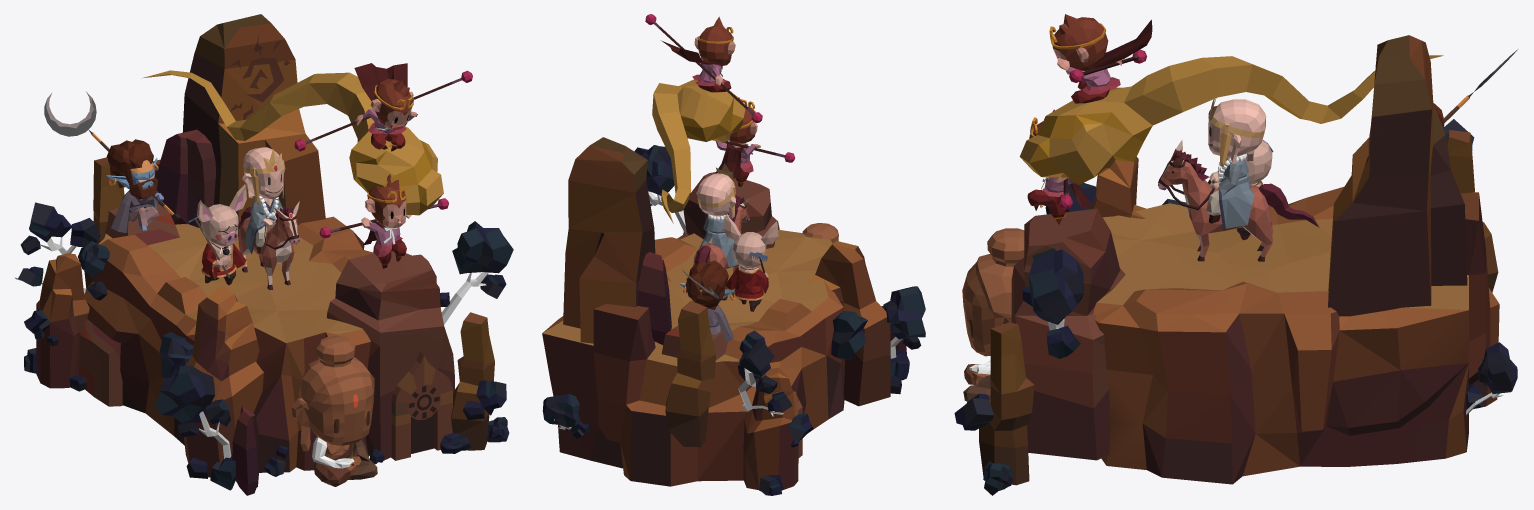
File: 0083_JourneyToTheWest.fbx
3 renders of one model, left to right at view 1: azimuth 30°, elevation 25°; view 2: azimuth 150°, elevation 25°; view 3: azimuth 270°, elevation 25°, orthographic. The views are drawn at different scales.
Parts seen in each view (by area): view 1: Plate, Rock02, Rock03 (×2), Rock05, FlyingNimbus, buddha_Head, Leaves01 (×4), Rock01 (×2), Rock04 (×2), Entrance, Rock06 (×2), Leaves02 (×4) (+15 smaller); view 2: Plate, Rock02, Rock03 (×2), FlyingNimbus, Leaves01 (×4), Rock04, Rock05, Leaves02 (×4), Rock01, SunWukong_Head (×2), SunWukong_Body (×2), Sandy_Head (+8 smaller); view 3: Plate, Rock02, Rock05, FlyingNimbus, Rock04 (×2), Leaves01 (×3), buddha_Head, Horse_body, Tripitaka_Head, Rock03, SunWukong_Head, Horse_Head (+5 smaller).
Part boxes in pixels (<box>): Plate: <box>84,159,373,472</box>; Rock02: <box>182,14,325,237</box>; Rock03 (×2): <box>36,253,263,477</box>; Rock05: <box>326,250,454,460</box>; FlyingNimbus: <box>142,70,443,215</box>; buddha_Head: <box>291,335,374,451</box>; Leaves01 (×4): <box>78,221,513,422</box>; Rock01 (×2): <box>156,129,259,495</box>; Rock04 (×2): <box>84,157,494,450</box>; Entrance: <box>391,352,452,460</box>; Rock06 (×2): <box>79,203,179,406</box>; Leaves02 (×4): <box>29,202,506,490</box>; Plate: <box>542,230,844,486</box>; Rock02: <box>563,137,655,343</box>; Rock03 (×2): <box>743,241,890,490</box>; FlyingNimbus: <box>652,79,745,223</box>; Leaves01 (×4): <box>542,145,925,427</box>; Rock04: <box>665,300,715,447</box>; Rock05: <box>677,172,779,248</box>; Leaves02 (×4): <box>739,340,909,495</box>; Rock01: <box>637,252,671,344</box>; SunWukong_Head (×2): <box>694,16,757,143</box>; SunWukong_Body (×2): <box>661,40,760,179</box>; Sandy_Head: <box>679,260,735,309</box>; Plate: <box>1093,187,1499,484</box>; Rock02: <box>1328,35,1467,316</box>; Rock05: <box>1011,208,1125,460</box>; FlyingNimbus: <box>1019,55,1443,185</box>; Rock04 (×2): <box>979,130,1498,485</box>; Leaves01 (×3): <box>983,248,1517,495</box>; buddha_Head: <box>962,228,1024,356</box>; Horse_body: <box>1186,183,1319,261</box>; Tripitaka_Head: <box>1208,99,1266,163</box>; Rock03: <box>1089,157,1145,218</box>; SunWukong_Head: <box>1052,14,1108,74</box>; Horse_Head: <box>1158,140,1214,210</box>.
Size of the model in its own units: 9.61 by 9.76 by 11.38.
